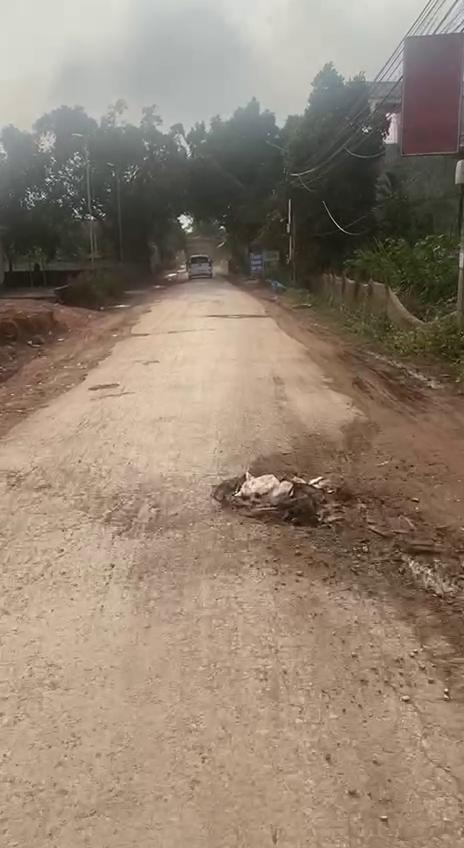pothole: (210, 473, 397, 531)
